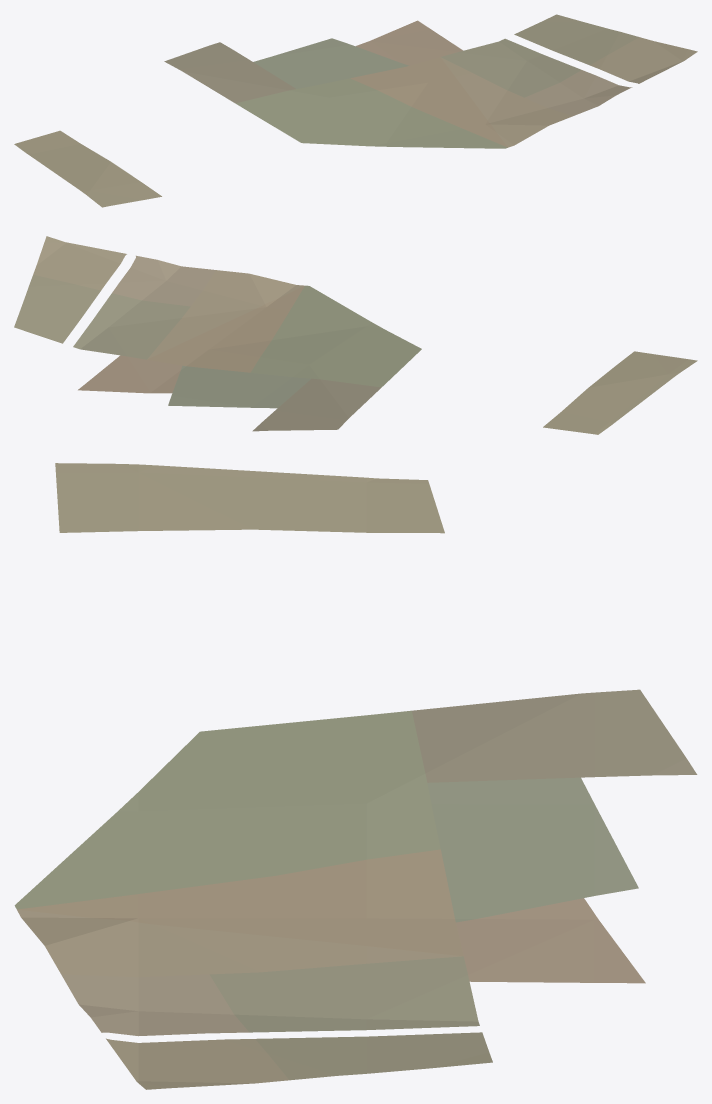
Rendered from farm_-4_12_soil.glb.
The picture shows the model from 3 angles, top to bottom: view 1: azimuth 30°, elevation 25°; view 2: azimuth 150°, elevation 25°; view 3: azimuth 270°, elevation 25°; orthographic projection. The views are drawn at different scales.
Parts seen in each view (by area): view 1: geometry_0; view 2: geometry_0; view 3: geometry_0.
Boxes of the visible parts, x1,y1,x2,y2 form: geometry_0: (14, 14, 697, 207); geometry_0: (14, 236, 697, 434); geometry_0: (14, 463, 697, 1089).
Bounding box in the file's own units: 501 × 26.38 × 240.
